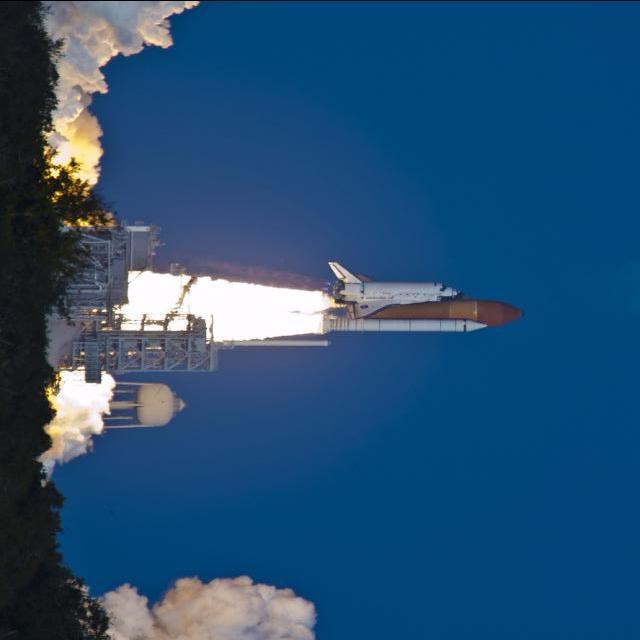missile: (312, 257, 528, 364)
